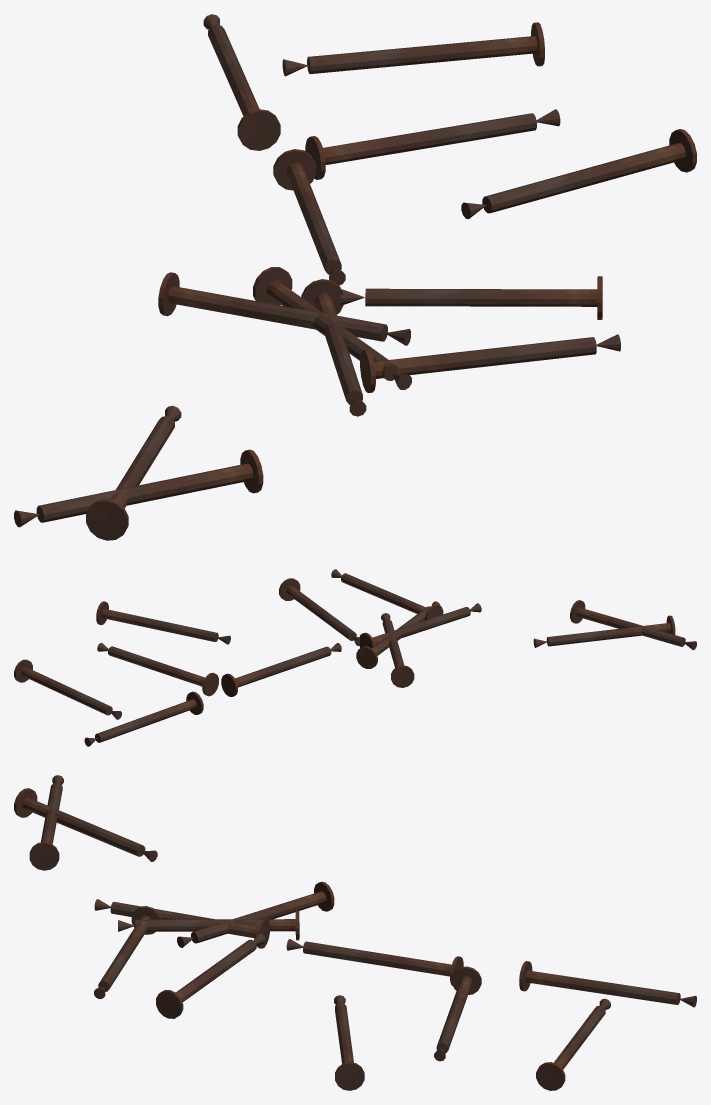
The model's file is EST-PRG-001_lod1.glb.
The picture shows the model from 3 angles, top to bottom: view 1: azimuth 30°, elevation 25°; view 2: azimuth 150°, elevation 25°; view 3: azimuth 270°, elevation 25°; orthographic projection. The views are drawn at different scales.
Parts seen in each view (by area): view 1: EST-PRG-001_prego, EST-PRG-001_prego.008, EST-PRG-001_prego.002, EST-PRG-001_prego.003, EST-PRG-001_prego.005, EST-PRG-001_prego.006, EST-PRG-001_prego.010, EST-PRG-001_prego.007, EST-PRG-001_prego.004, EST-PRG-001_prego.001, EST-PRG-001_prego.011, EST-PRG-001_prego.009; view 2: EST-PRG-001_prego.008, EST-PRG-001_prego.002, EST-PRG-001_prego.004, EST-PRG-001_prego.007, EST-PRG-001_prego.001, EST-PRG-001_prego.010, EST-PRG-001_prego, EST-PRG-001_prego.005, EST-PRG-001_prego.003, EST-PRG-001_prego.009, EST-PRG-001_prego.006, EST-PRG-001_prego.011; view 3: EST-PRG-001_prego.007, EST-PRG-001_prego.004, EST-PRG-001_prego.001, EST-PRG-001_prego.006, EST-PRG-001_prego.003, EST-PRG-001_prego, EST-PRG-001_prego.011, EST-PRG-001_prego.002, EST-PRG-001_prego.008, EST-PRG-001_prego.010, EST-PRG-001_prego.005, EST-PRG-001_prego.009.
Boxes of the visible parts, left/top/right/bottom form: EST-PRG-001_prego: left=282, top=22, right=544, bottom=76; EST-PRG-001_prego.008: left=461, top=129, right=696, bottom=219; EST-PRG-001_prego.002: left=305, top=109, right=560, bottom=179; EST-PRG-001_prego.003: left=340, top=276, right=602, bottom=319; EST-PRG-001_prego.005: left=360, top=334, right=620, bottom=392; EST-PRG-001_prego.006: left=158, top=272, right=410, bottom=345; EST-PRG-001_prego.010: left=14, top=449, right=263, bottom=527; EST-PRG-001_prego.007: left=203, top=14, right=280, bottom=150; EST-PRG-001_prego.004: left=273, top=149, right=345, bottom=285; EST-PRG-001_prego.001: left=86, top=405, right=181, bottom=540; EST-PRG-001_prego.011: left=253, top=267, right=411, bottom=389; EST-PRG-001_prego.009: left=301, top=279, right=366, bottom=416; EST-PRG-001_prego.008: left=96, top=601, right=230, bottom=644; EST-PRG-001_prego.002: left=97, top=643, right=218, bottom=696; EST-PRG-001_prego.004: left=221, top=643, right=341, bottom=696; EST-PRG-001_prego.007: left=84, top=691, right=203, bottom=746; EST-PRG-001_prego.001: left=533, top=615, right=675, bottom=647; EST-PRG-001_prego.010: left=570, top=600, right=696, bottom=649; EST-PRG-001_prego: left=14, top=659, right=121, bottom=719; EST-PRG-001_prego.005: left=331, top=569, right=443, bottom=620; EST-PRG-001_prego.003: left=279, top=578, right=359, bottom=645; EST-PRG-001_prego.009: left=359, top=603, right=481, bottom=648; EST-PRG-001_prego.006: left=381, top=613, right=414, bottom=687; EST-PRG-001_prego.011: left=356, top=601, right=440, bottom=668; EST-PRG-001_prego.007: left=519, top=961, right=696, bottom=1007; EST-PRG-001_prego.004: left=286, top=939, right=463, bottom=985; EST-PRG-001_prego.001: left=14, top=788, right=157, bottom=861; EST-PRG-001_prego.006: left=177, top=881, right=334, bottom=947; EST-PRG-001_prego.003: left=156, top=933, right=265, bottom=1018; EST-PRG-001_prego: left=536, top=998, right=610, bottom=1090; EST-PRG-001_prego.011: left=118, top=910, right=299, bottom=940; EST-PRG-001_prego.002: left=434, top=966, right=481, bottom=1061; EST-PRG-001_prego.008: left=334, top=995, right=364, bottom=1090; EST-PRG-001_prego.010: left=29, top=775, right=63, bottom=870; EST-PRG-001_prego.005: left=94, top=906, right=160, bottom=999; EST-PRG-001_prego.009: left=94, top=899, right=270, bottom=948.
Bounding box in the file's own units: 0.1859 × 0.00798 × 0.1797.
1 material, 1 textured.
